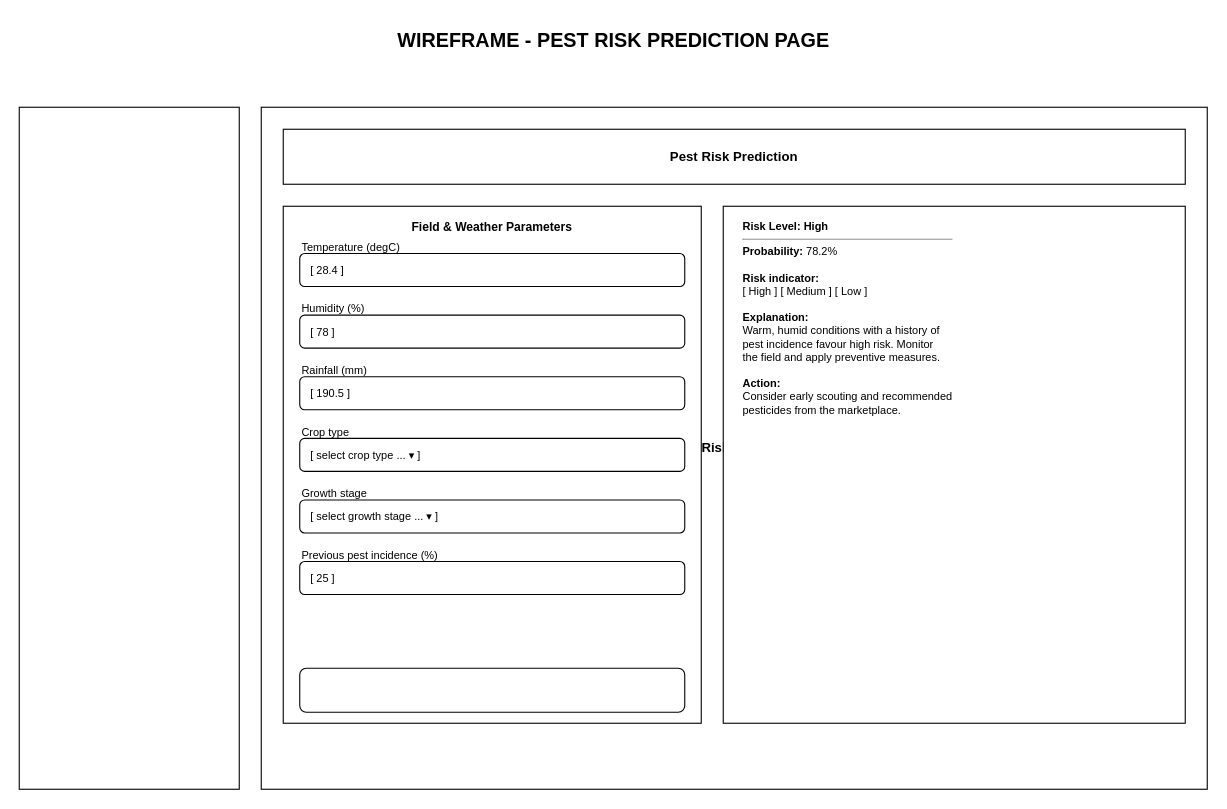
This 1227x809 diagram has some shape labels left out. Each missing label, with the box of its shape:
NAV Dashboard Records Crop Recommendation Pest Risk Disease Shop Profile Logout: (18, 106, 239, 789)
Predict Risk: (299, 667, 685, 712)
